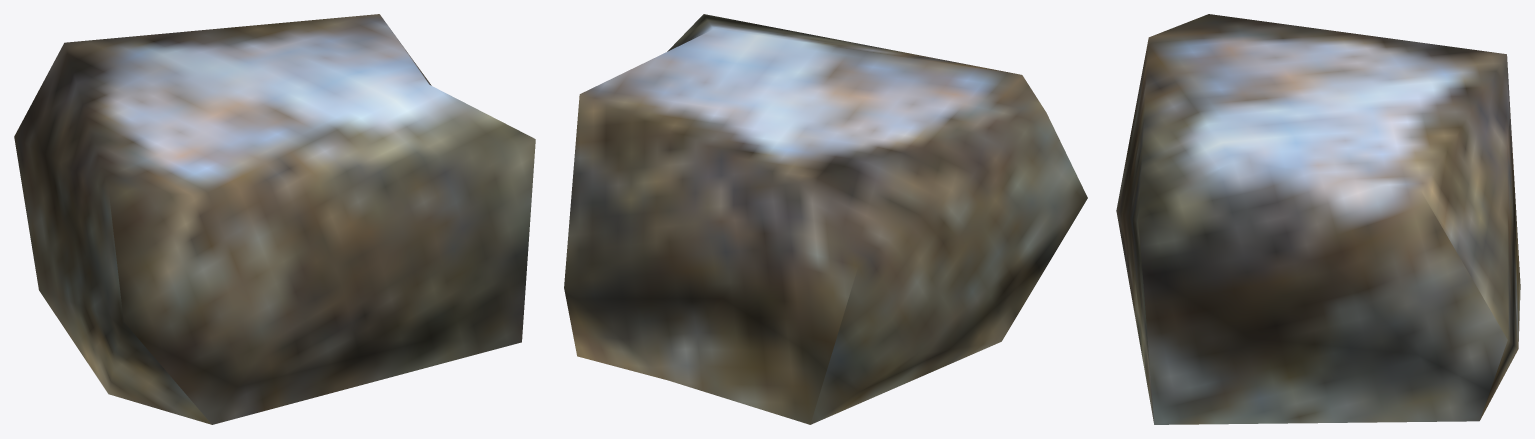
Rendered from SM_EN_2007_shitou15.FBX.
The picture shows the model from 3 angles, left to right: view 1: azimuth 30°, elevation 25°; view 2: azimuth 150°, elevation 25°; view 3: azimuth 270°, elevation 25°; orthographic projection. The views are drawn at different scales.
Visible parts, largest first — view 1: SM_EN_2007_shitou15; view 2: SM_EN_2007_shitou15; view 3: SM_EN_2007_shitou15.
Part boxes in pixels (x1,y1,x2,y2): SM_EN_2007_shitou15: (14,14,535,424); SM_EN_2007_shitou15: (564,14,1087,424); SM_EN_2007_shitou15: (1116,14,1520,424).
Bounding box in the file's own units: 41.33 × 24.25 × 35.26.
